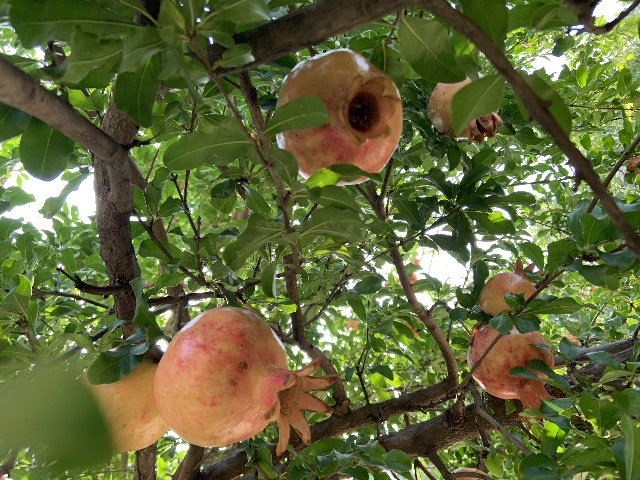ripe: (155, 307, 338, 457), (275, 48, 402, 184), (83, 343, 169, 452), (469, 324, 555, 428), (427, 72, 504, 144), (478, 256, 542, 315)
